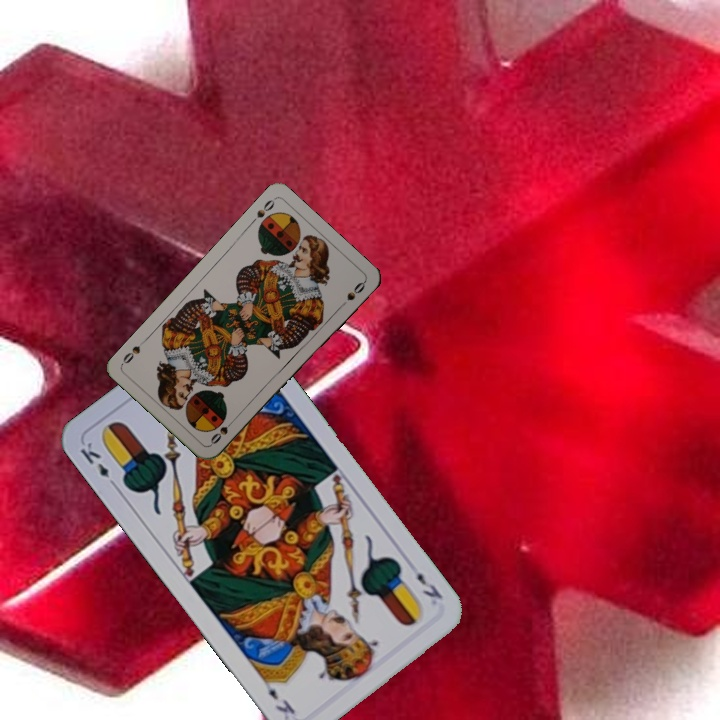EK: (75, 438, 121, 491), (412, 568, 446, 602)
SO: (206, 415, 238, 447), (246, 195, 277, 228)
